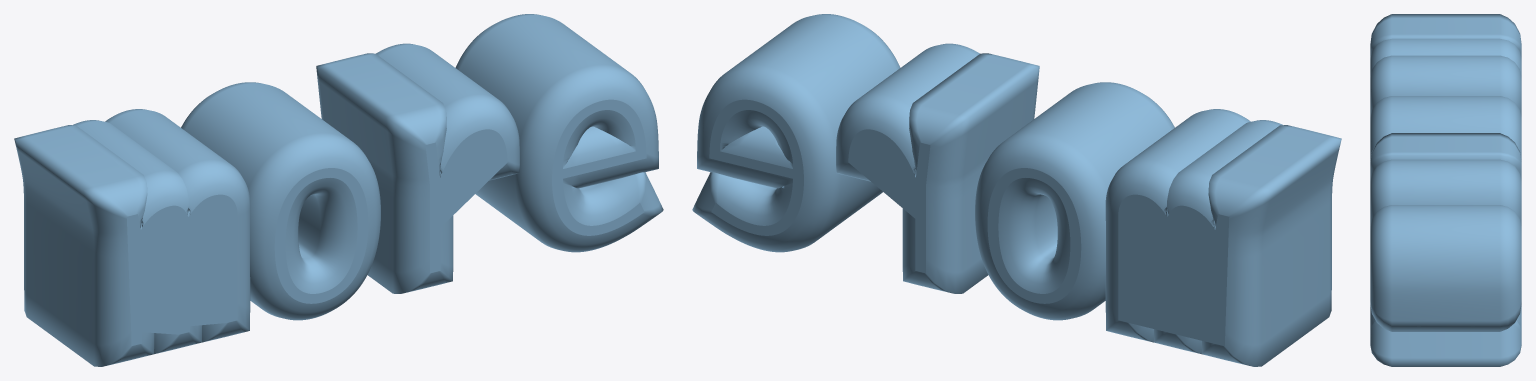
File: more.fbx
The picture shows the model from 3 angles, left to right: view 1: azimuth 30°, elevation 25°; view 2: azimuth 150°, elevation 25°; view 3: azimuth 270°, elevation 25°; orthographic projection. The views are drawn at different scales.
Parts seen in each view (by area): view 1: polySurface11; view 2: polySurface11; view 3: polySurface11.
Boxes of the visible parts, <box> form: polySurface11: <box>14,14,663,366</box>; polySurface11: <box>692,14,1341,366</box>; polySurface11: <box>1370,14,1521,366</box>.
Size of the model in its own units: 2.47 by 0.7443 by 0.7.
